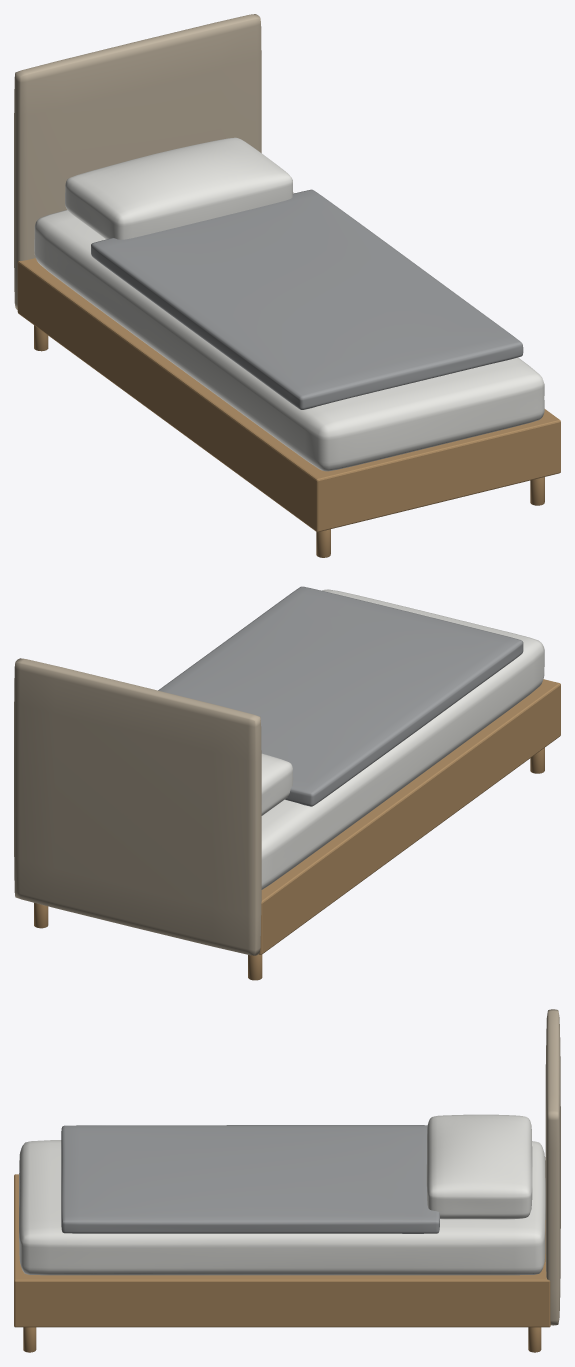
Rendered from bett.glb.
3 views of the same model, one above another, from view 1: azimuth 30°, elevation 25°; view 2: azimuth 150°, elevation 25°; view 3: azimuth 270°, elevation 25° (orthographic). The views are drawn at different scales.
Parts seen in each view (by area): view 1: Decke, Rahmen, Kopfteil, Matratze, Kissen0; view 2: Kopfteil, Decke, Rahmen, Matratze, Kissen0; view 3: Decke, Rahmen, Matratze, Kissen0, Kopfteil.
Part boxes in pixels (x1,y1,x2,y2): Decke: (91, 189, 523, 409); Rahmen: (17, 258, 560, 532); Kopfteil: (14, 14, 261, 309); Matratze: (34, 192, 544, 471); Kissen0: (65, 137, 292, 239); Kopfteil: (14, 658, 261, 955); Decke: (158, 586, 523, 806); Rahmen: (259, 679, 560, 954); Matratze: (261, 589, 544, 889); Kissen0: (261, 753, 293, 815); Decke: (61, 1125, 439, 1233); Rahmen: (14, 1174, 550, 1327); Matratze: (19, 1140, 545, 1275); Kissen0: (426, 1114, 532, 1219); Kopfteil: (545, 1009, 560, 1325).
Size of the model in its own units: 0.96 by 1.02 by 2.08.
